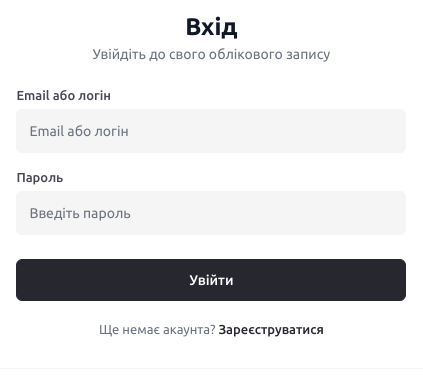
it: Login › відображає стандартну помилку, якщо сервер повернув Error
Type "testuser" into the field labelled "Email або логін" at [211, 131], box [16,109,406,153]
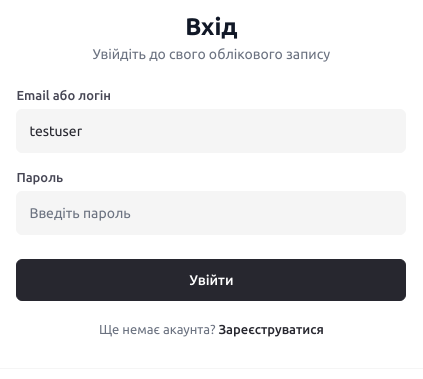
Type "Password123" into the password field labelled "Пароль" at [211, 213], box [16,191,406,235]
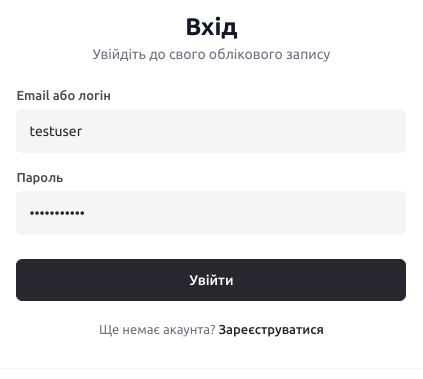
Click the button "Увійти" at [211, 280], box [16,259,406,301]
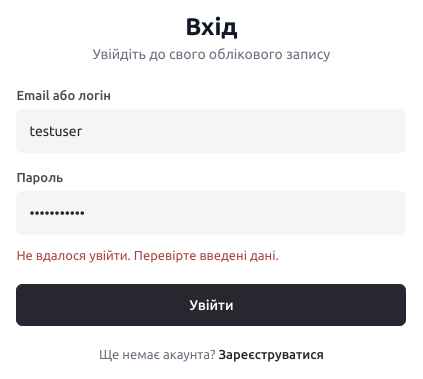
Expected: the text "Не вдалося увійти. Перевірте введені дані." is shown, [16,248,279,262]
